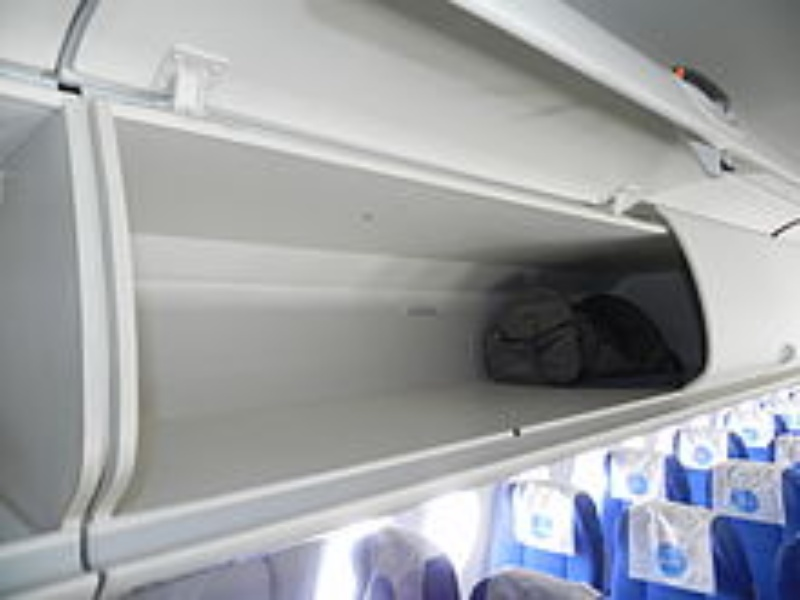close_bin: (648, 199, 800, 384)
open_bin: (71, 5, 696, 411)
